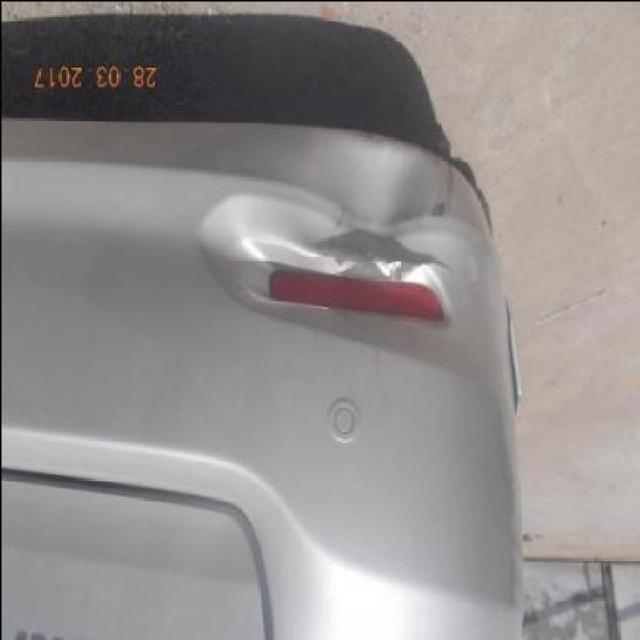damage: (249, 129, 453, 284)
